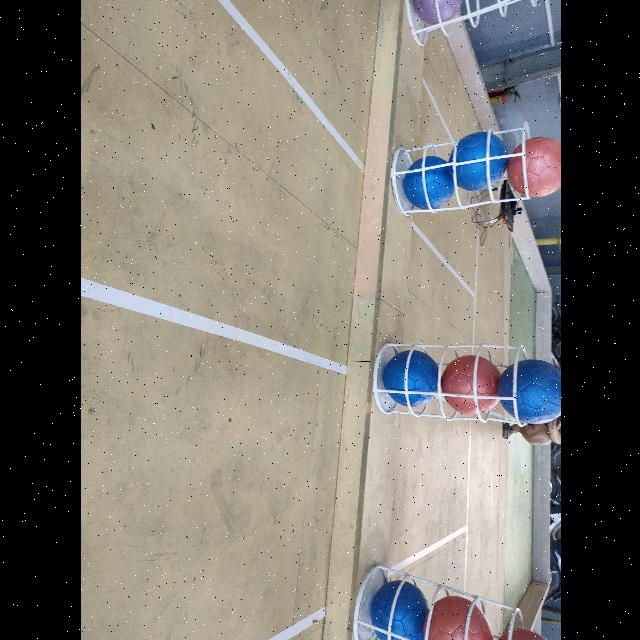B: (498, 359, 560, 425), (369, 580, 427, 640), (448, 132, 506, 192), (381, 350, 437, 406), (401, 156, 454, 210)
R: (438, 354, 498, 414), (506, 136, 560, 198), (427, 594, 493, 640)
